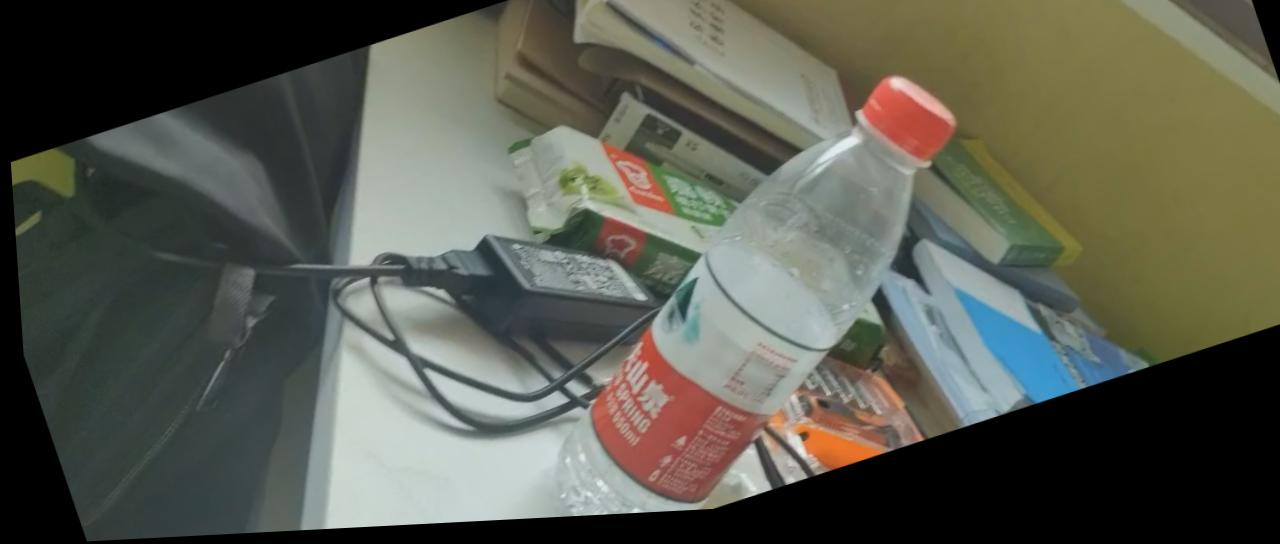plastic: (451, 52, 1062, 521)
